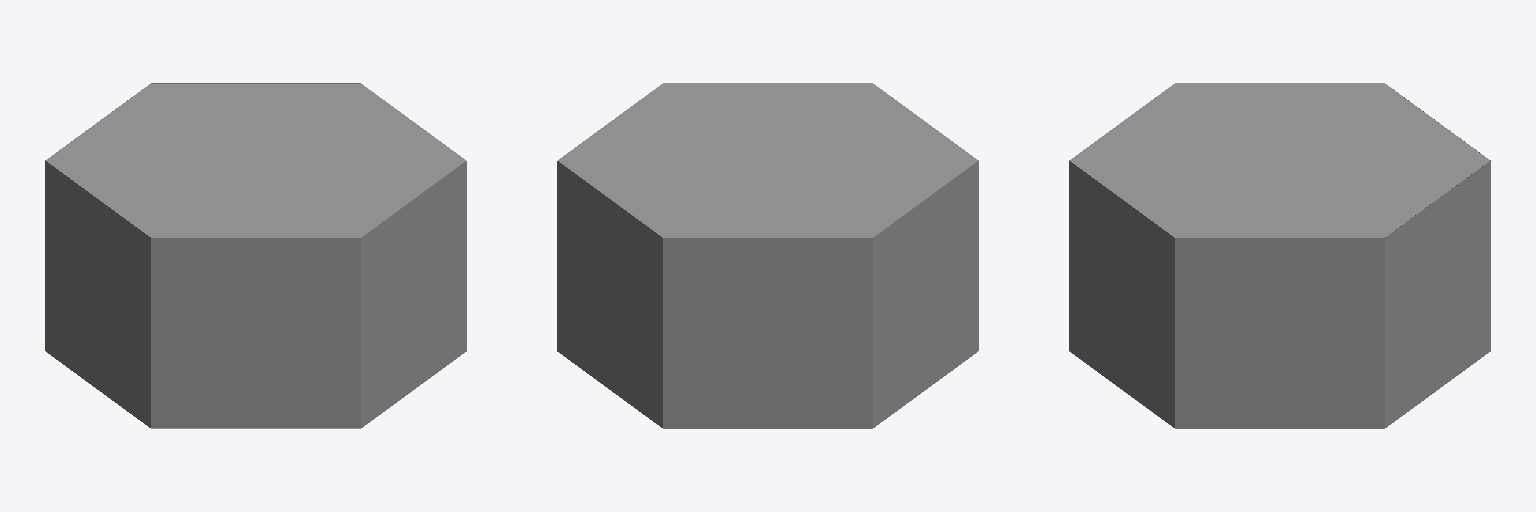
The model's file is hex_prism_slab_2.obj.
3 renders of one model, left to right at view 1: azimuth 30°, elevation 25°; view 2: azimuth 150°, elevation 25°; view 3: azimuth 270°, elevation 25°, orthographic.
Visible parts, largest first — view 1: Prism; view 2: Prism; view 3: Prism.
Part boxes in pixels (x1,y1,x2,y2): Prism: (45, 83, 466, 428); Prism: (557, 83, 978, 428); Prism: (1069, 83, 1490, 428).
Size of the model in its own units: 0.866 by 0.5 by 1.